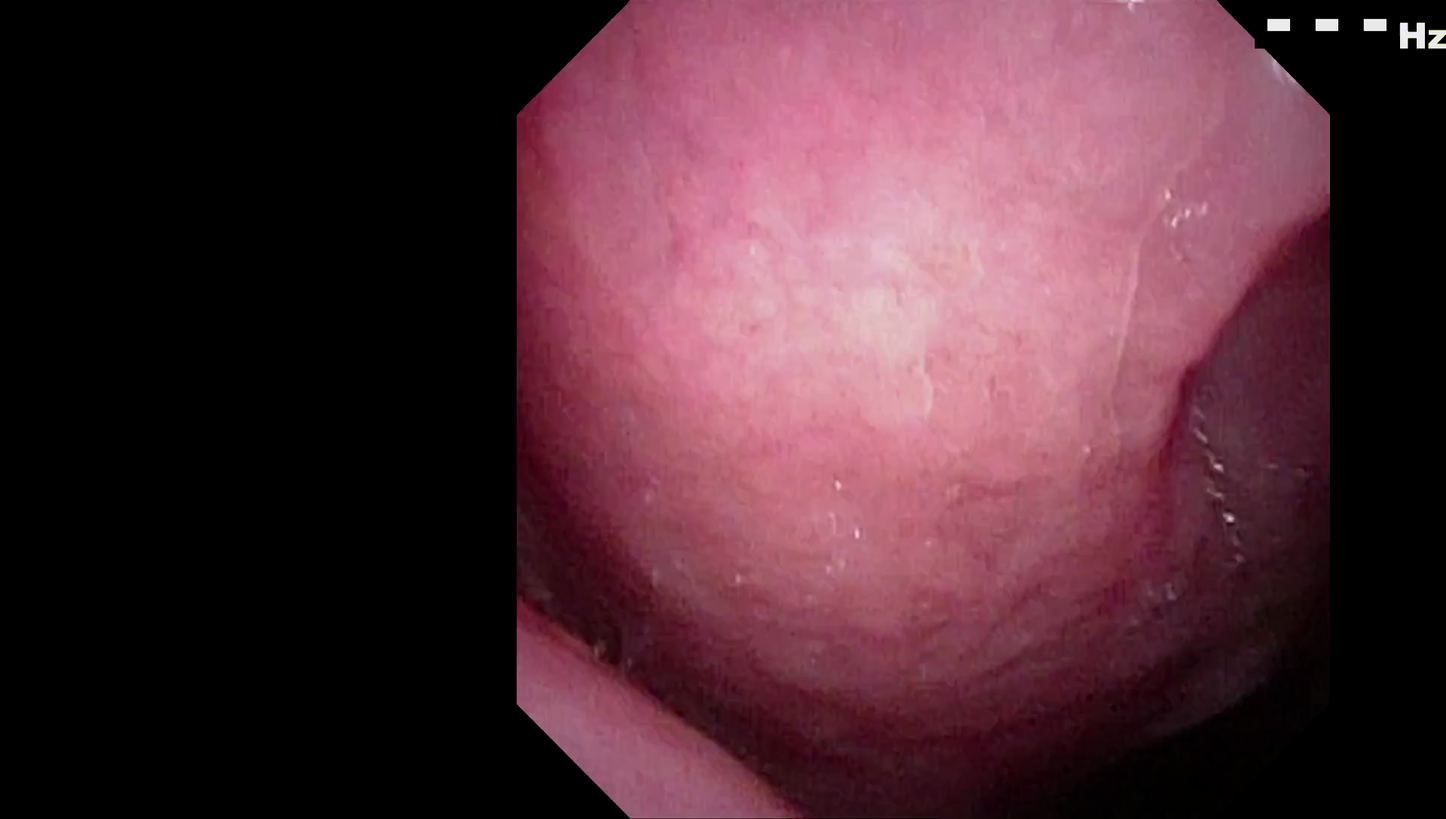close_wall: (605, 90, 1238, 553)
next: (941, 620, 1223, 819)
